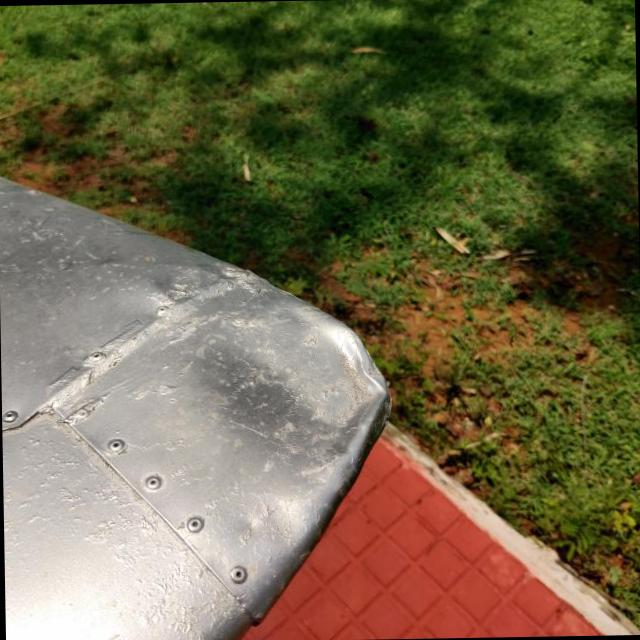Dent: (186, 288, 390, 499)
